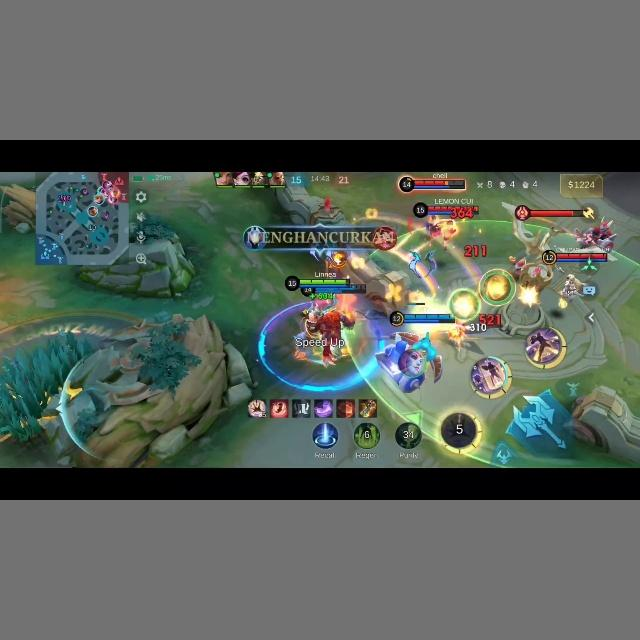hp_enemy: (397, 175, 469, 192), (408, 202, 475, 218), (513, 207, 585, 220), (548, 249, 606, 262), (371, 226, 399, 250), (576, 207, 597, 219)
hp_self: (283, 276, 363, 291), (388, 310, 454, 326)
minion_enemy: (582, 217, 617, 249)
